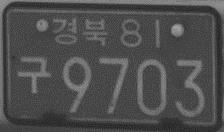0: (137, 57, 168, 117)
1: (152, 15, 165, 50)
3: (174, 57, 205, 119)
7: (96, 55, 130, 114)
8: (120, 16, 142, 50)
9: (61, 52, 90, 114)
경북_O: (51, 16, 109, 48)
구: (14, 52, 50, 96)
